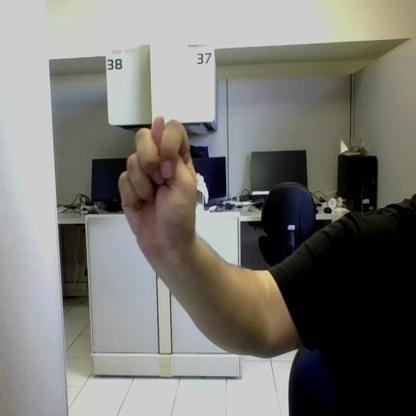T: (119, 118, 196, 252)
